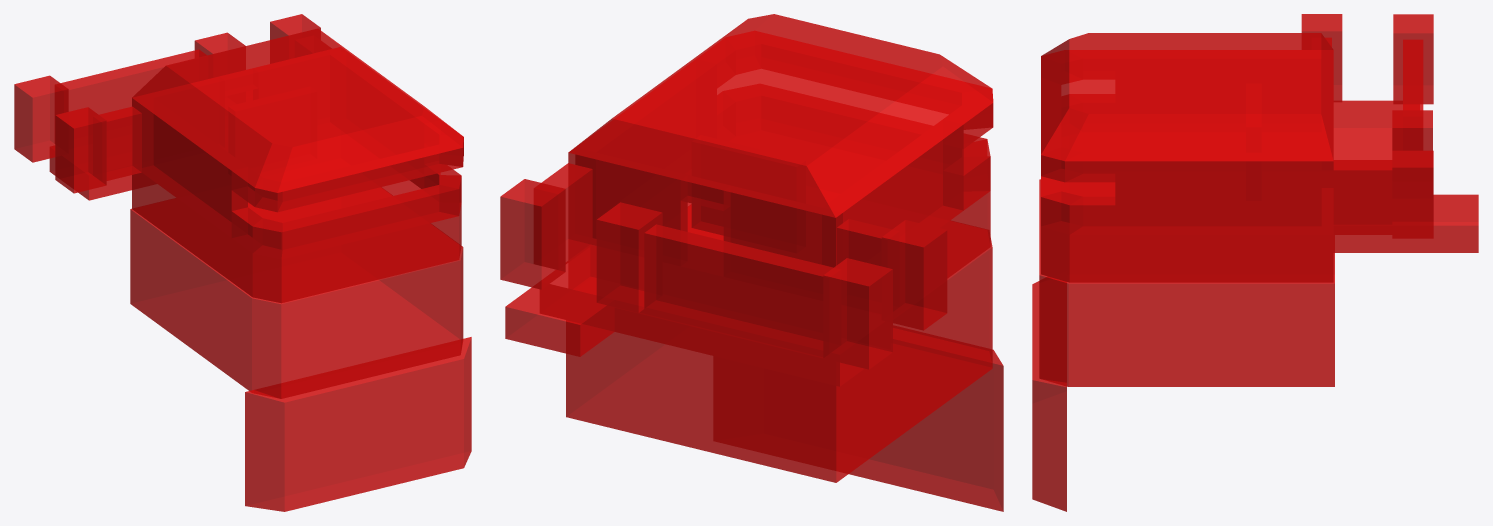
File: SM_Bld_Bunker_Large_Cliff_01_Collision.fbx
3 renders of one model, left to right at view 1: azimuth 30°, elevation 25°; view 2: azimuth 150°, elevation 25°; view 3: azimuth 270°, elevation 25°, orthographic. The views are drawn at different scales.
Parts seen in each view (by area): view 1: SM_Bld_Bunker_Large_Cliff_01_Collision; view 2: SM_Bld_Bunker_Large_Cliff_01_Collision; view 3: SM_Bld_Bunker_Large_Cliff_01_Collision.
Boxes of the visible parts, box(x1,y1,x2,y2) form: SM_Bld_Bunker_Large_Cliff_01_Collision: box(14, 14, 471, 511); SM_Bld_Bunker_Large_Cliff_01_Collision: box(500, 14, 1003, 511); SM_Bld_Bunker_Large_Cliff_01_Collision: box(1032, 14, 1478, 511).
Size of the model in its own units: 1241 by 1414 by 1514.
